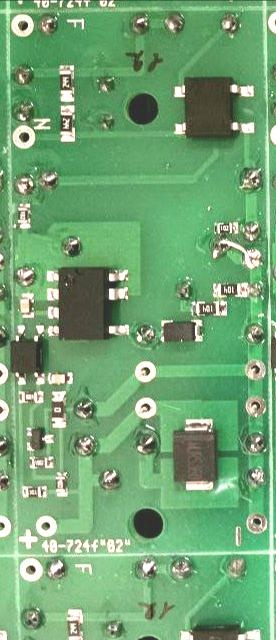chip-capacitor: (20, 292, 36, 320), (48, 370, 75, 386)
chip-resistor: (59, 104, 77, 144), (51, 389, 69, 428), (59, 64, 76, 103), (212, 280, 251, 297), (191, 299, 229, 316), (67, 608, 84, 640), (54, 470, 70, 498), (18, 202, 33, 230), (28, 455, 56, 469), (213, 220, 241, 234), (21, 485, 49, 498), (18, 390, 45, 403)
diode: (173, 416, 218, 492), (159, 318, 206, 343)
ic: (46, 265, 132, 339), (172, 73, 257, 138), (10, 322, 46, 386)
transistor: (25, 425, 55, 452)
